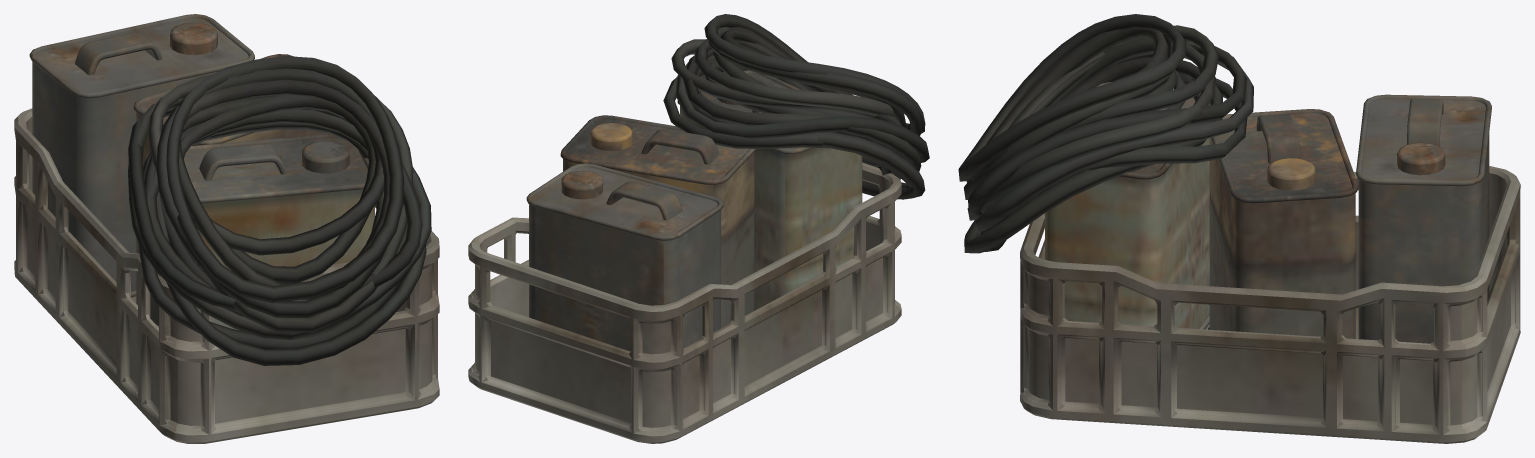
File: prop_small_006.glb
3 renders of one model, left to right at view 1: azimuth 30°, elevation 25°; view 2: azimuth 150°, elevation 25°; view 3: azimuth 270°, elevation 25°, orthographic. The views are drawn at different scales.
Parts seen in each view (by area): view 1: Building_12_011; view 2: Building_12_011; view 3: Building_12_011.
Boxes of the visible parts, <box> form: Building_12_011: <box>14,14,439,443</box>; Building_12_011: <box>468,14,929,443</box>; Building_12_011: <box>958,14,1520,443</box>.
Size of the model in its own units: 0.546 by 0.4954 by 0.8.
1 material, 1 textured.
